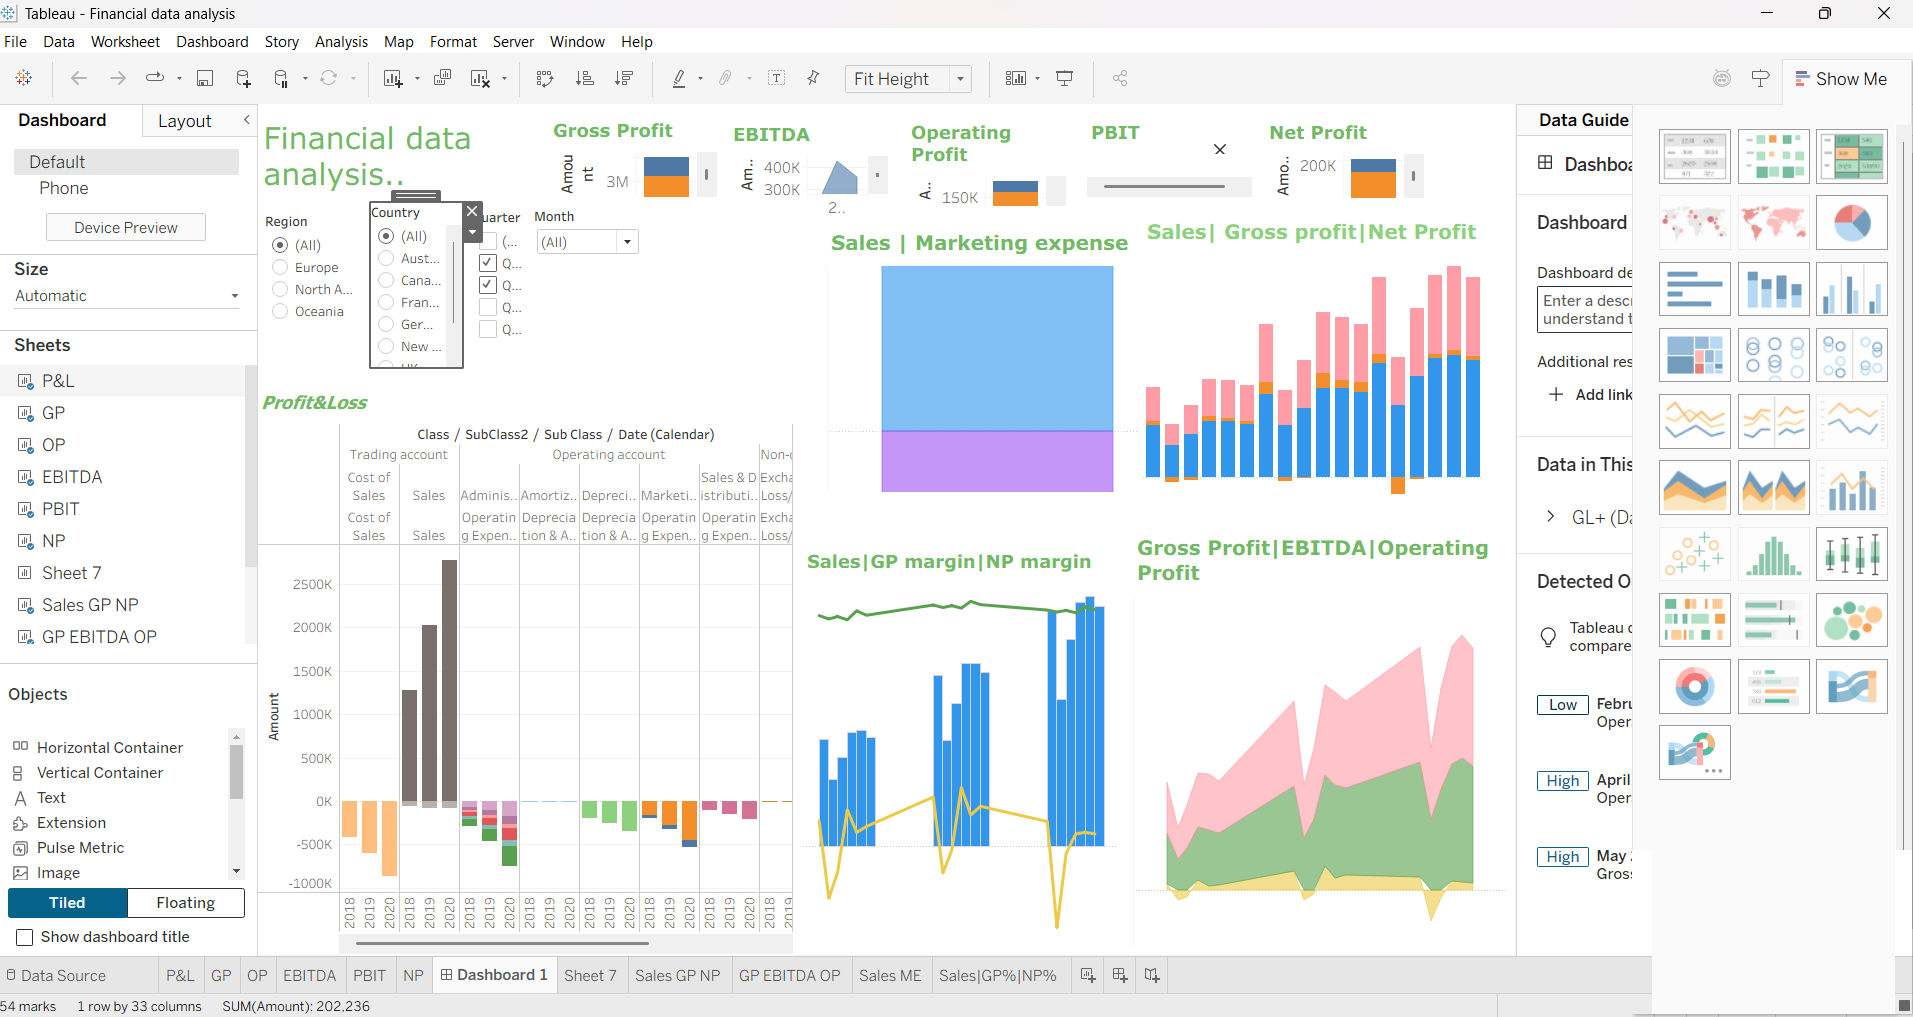

The page's visual inventory and layout, read from the dashboard file:
{"tool":"tableau","page":{"name":"Dashboard 1","canvas":[1000,1000],"units":"permille","ordinal":0},"visuals":[{"type":"worksheet","title":"GP","mark":"Bar","rows":["Amount"],"box":[231.5,12.9,158.8,96.4]},{"type":"worksheet","title":"OP","mark":"Bar","rows":["Amount"],"box":[516.4,15.3,153,104.6]},{"type":"worksheet","title":"PBIT","mark":"Automatic","rows":["Amount"],"cols":["Date (Calendar)"],"box":[659.4,15.3,148.3,94]},{"type":"worksheet","title":"NP","mark":"Bar","rows":["Amount"],"box":[801.3,15.3,143.6,95.2]},{"type":"title","box":[1.8,17.6,204,85.8]},{"type":"worksheet","title":"EBITDA","mark":"Area","rows":["Amount"],"cols":["Date (Calendar)"],"box":[374.6,17.6,158.3,117.5]},{"type":"dashboard-object","box":[758.5,40,14.1,28.2]},{"type":"filter","title":"P&L","param":"[federated.1dryq7i0ekf2nn1gdghda18cg716].[none:Country:nk]","box":[90.3,116.3,72.1,192.7]},{"type":"filter","title":"P&L","param":"[federated.1dryq7i0ekf2nn1gdghda18cg716].[none:Month:nk]","box":[219.8,121,85.6,151.6]},{"type":"filter","title":"P&L","param":"[federated.1dryq7i0ekf2nn1gdghda18cg716].[none:Quarter:nk]","box":[170,122.2,43.4,158.6]},{"type":"filter","title":"P&L","param":"[federated.1dryq7i0ekf2nn1gdghda18cg716].[none:Region:nk]","box":[5.3,126.9,76.2,159.8]},{"type":"worksheet","title":"Sales GP NP","mark":"Bar","cols":["Date (Calendar)","Date (Calendar)","Date (Calendar)"],"box":[704,130.4,270.2,340.8]},{"type":"worksheet","title":"Sales ME","mark":"Area","cols":["Date (Calendar)"],"box":[452.5,143.4,247.4,312.6]},{"type":"worksheet","title":"GP EBITDA OP","mark":"Area","cols":["Date (Calendar)"],"box":[695.8,501.8,297.8,487.7]},{"type":"worksheet","title":"Sales|GP%|NP%","mark":"Automatic","rows":["Calculation_0562736903053312"],"cols":["Date (Calendar)"],"box":[433.8,519.4,250.3,468.9]}]}

Visuals, with their boxes on the dashboard's canvas, which has no fixed pixel size, in thousandths of its width and height (x1, y1, x2, y2). These are canvas units, not pixel positions in the 1913x1017 screenshot, which may show the page scaled, cropped or inside an application window:
"GP" worksheet (Bar marks): detection(232, 13, 390, 109)
"OP" worksheet (Bar marks): detection(516, 15, 669, 120)
"PBIT" worksheet: detection(659, 15, 808, 109)
"NP" worksheet (Bar marks): detection(801, 15, 945, 110)
title: detection(2, 18, 206, 103)
"EBITDA" worksheet (Area marks): detection(375, 18, 533, 135)
dashboard-object: detection(758, 40, 773, 68)
"P&L" filter: detection(90, 116, 162, 309)
"P&L" filter: detection(220, 121, 305, 273)
"P&L" filter: detection(170, 122, 213, 281)
"P&L" filter: detection(5, 127, 82, 287)
"Sales GP NP" worksheet (Bar marks): detection(704, 130, 974, 471)
"Sales ME" worksheet (Area marks): detection(452, 143, 700, 456)
"GP EBITDA OP" worksheet (Area marks): detection(696, 502, 994, 990)
"Sales|GP%|NP%" worksheet: detection(434, 519, 684, 988)
